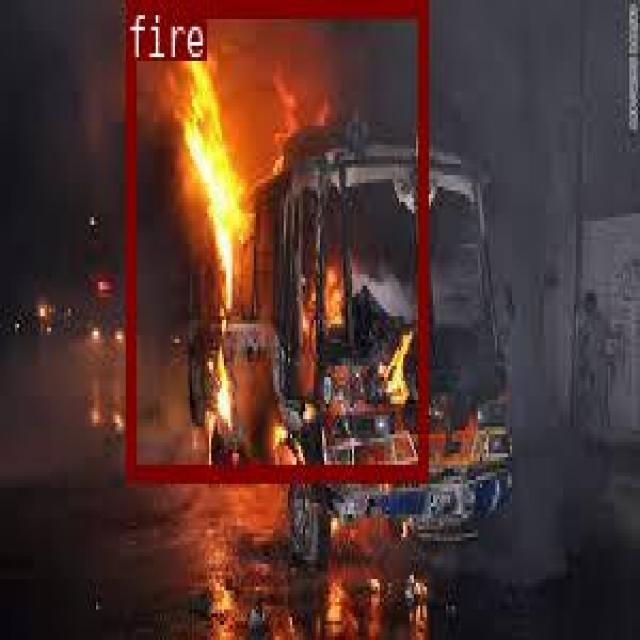fire: (125, 0, 426, 480)
